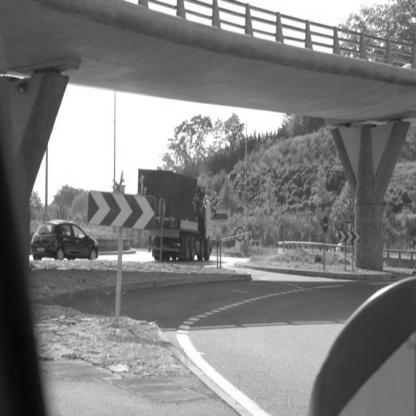car: (29, 223, 95, 269)
truck: (142, 173, 223, 270)
